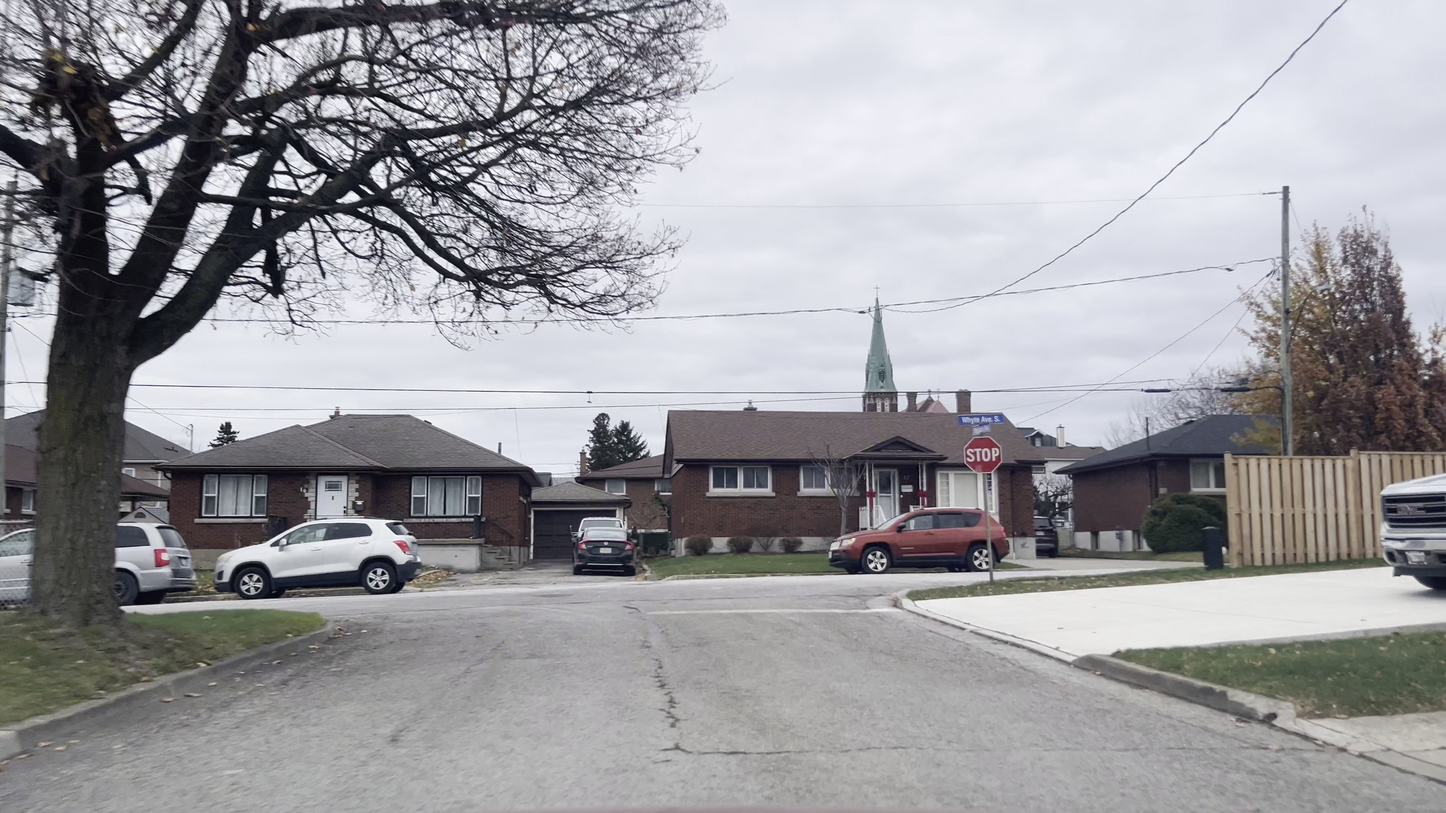cracks: (638, 637, 689, 757)
